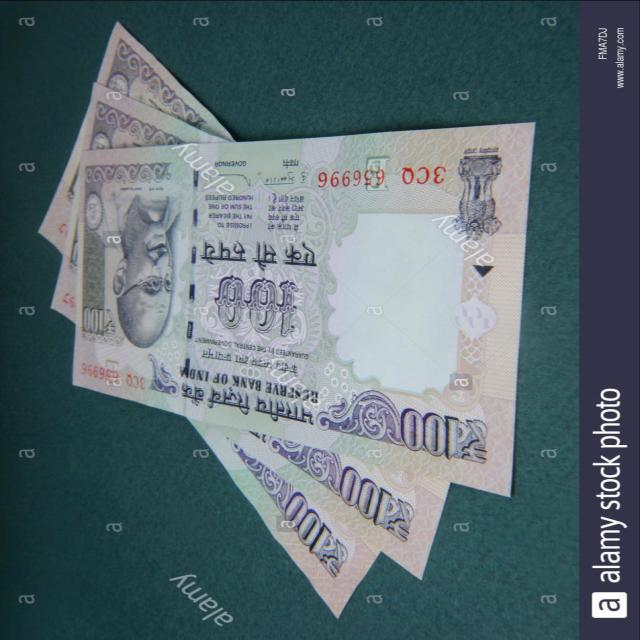100IndianRupees: (74, 122, 519, 491)
